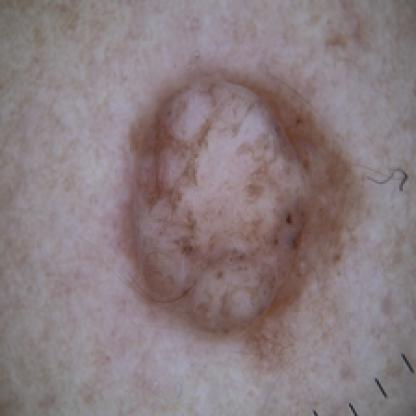benign: (124, 58, 379, 330)
